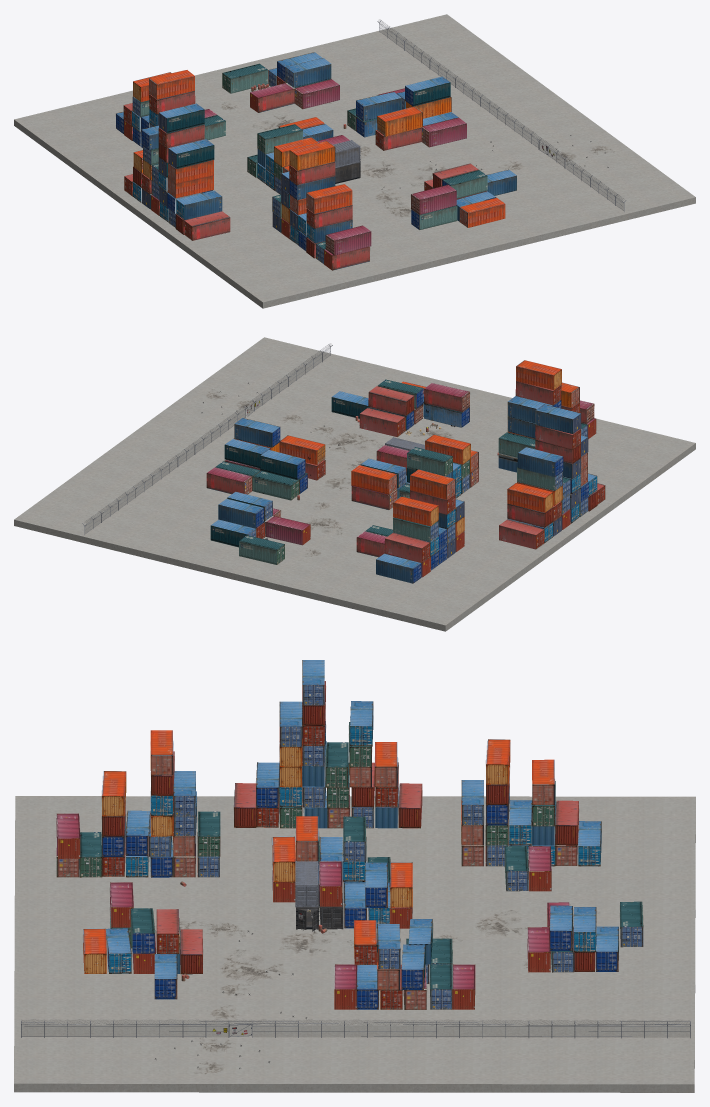
3 renders of one model, top to bottom at view 1: azimuth 30°, elevation 25°; view 2: azimuth 150°, elevation 25°; view 3: azimuth 270°, elevation 25°, orthographic. The views are drawn at different scales.
Parts seen in each view (by area): view 1: polySurface1056, pCube105, pCube115, pCube182, pCube517, pCube120, group8_polySurface702, group8_polySurface818, pCube129, pCube121, pCube177, group8_polySurface811 (+25 smaller); view 2: polySurface1056, group8_polySurface713, pCube124, pCube121, pCube145, pCube159, pCube131, pCube130, pCube134, pCube115, pCube129, group8_polySurface811 (+31 smaller); view 3: polySurface1056, group8_polySurface737, pCube105, pCube129, pCube181, pCube518, group8_polySurface818, group8_polySurface734, pCube123, pCube120, group8_polySurface805, group8_polySurface817 (+39 smaller).
Boxes of the visible parts, box(x1,y1,x2,y2) form: polySurface1056: box(14, 14, 695, 308); pCube105: box(306, 184, 352, 213); pCube115: box(289, 140, 335, 170); pCube182: box(285, 58, 331, 87); pCube517: box(459, 198, 505, 227); pCube120: box(168, 139, 214, 168); group8_polySurface702: box(176, 190, 222, 220); group8_polySurface818: box(325, 225, 371, 255); pCube129: box(149, 70, 194, 99); pCube121: box(159, 103, 204, 133); pCube177: box(184, 211, 230, 240); group8_polySurface811: box(411, 185, 456, 214); polySurface1056: box(14, 337, 695, 631); group8_polySurface713: box(517, 447, 563, 477); pCube124: box(507, 483, 553, 512); pCube121: box(535, 404, 581, 433); pCube145: box(351, 465, 397, 494); pCube159: box(234, 418, 280, 447); pCube131: box(384, 532, 430, 562); pCube130: box(393, 496, 438, 526); pCube134: box(368, 386, 414, 415); pCube115: box(516, 360, 561, 389); pCube129: box(410, 469, 455, 499); group8_polySurface811: box(424, 383, 469, 412); polySurface1056: box(14, 796, 695, 1092); group8_polySurface737: box(106, 928, 131, 973); pCube105: box(101, 771, 126, 816); pCube129: box(486, 739, 510, 784); pCube181: box(401, 944, 426, 989); pCube518: box(154, 954, 177, 999); group8_polySurface818: box(56, 813, 80, 858); group8_polySurface734: box(130, 908, 154, 953); pCube123: box(398, 783, 422, 828); pCube120: box(279, 701, 302, 746); group8_polySurface805: box(504, 846, 528, 891); group8_polySurface817: box(573, 907, 596, 952).
Bounding box in the file's own units: 2.47 × 0.6023 × 2.47.
48 materials, 30 textured.
